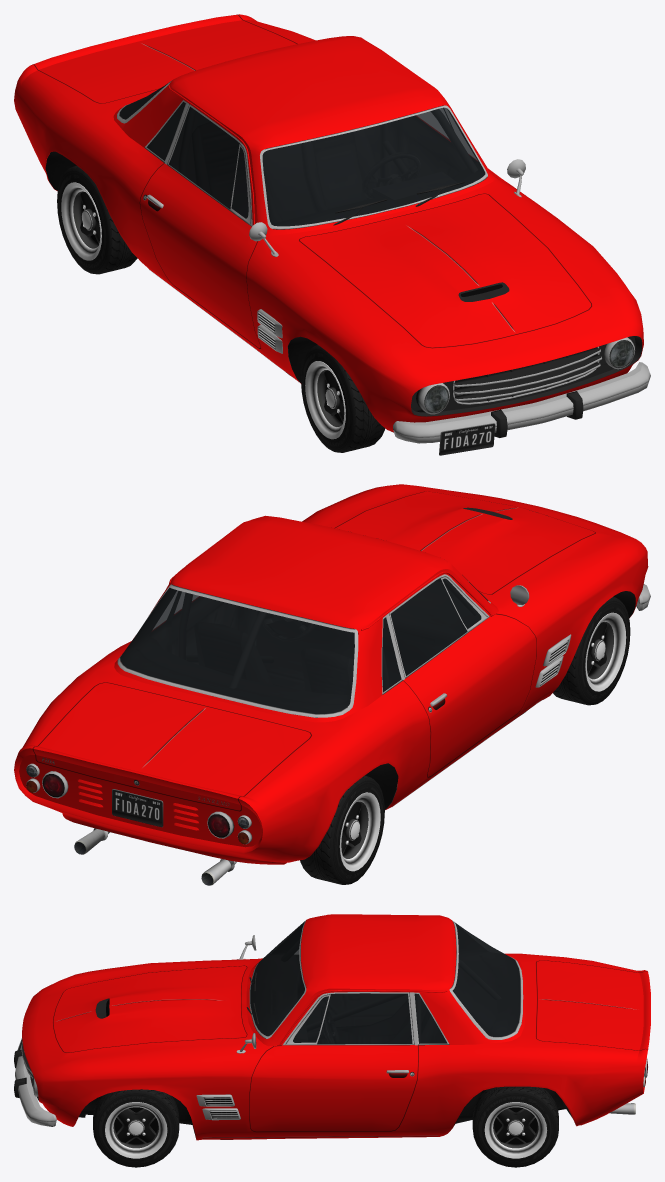
The model's file is sanremo-70-low-poly-model-b2261c.glb.
3 views of the same model, one above another, from view 1: azimuth 30°, elevation 25°; view 2: azimuth 150°, elevation 25°; view 3: azimuth 270°, elevation 25° (orthographic). The views are drawn at different scales.
Parts seen in each view (by area): view 1: body, wheel-front-right, wheel-back-right; view 2: body, wheel-back-right, wheel-front-right; view 3: body, wheel-back-left, wheel-front-left.
Boxes of the visible parts, x1,y1,x2,y2 form: body: (14, 14, 650, 455); wheel-front-right: (301, 345, 385, 452); wheel-back-right: (57, 165, 137, 274); body: (14, 484, 650, 885); wheel-back-right: (208, 775, 384, 884); wheel-front-right: (553, 596, 630, 705); body: (14, 914, 650, 1140); wheel-back-left: (472, 1059, 647, 1167); wheel-front-left: (93, 1089, 179, 1167).
Bounding box in the file's own units: 1.71 × 1.25 × 4.18.
9 materials, 8 textured.
